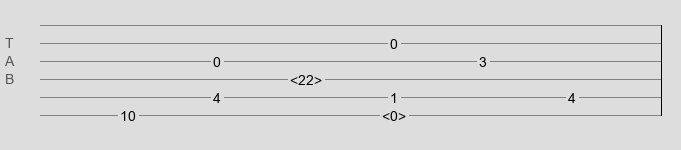0: (213, 54, 221, 64), (390, 36, 398, 46)
1: (390, 90, 398, 100)
10: (120, 108, 136, 118)
3: (479, 54, 487, 64)
4: (213, 90, 221, 100), (568, 90, 576, 100)
harmonic: (290, 72, 322, 82), (382, 108, 406, 118)
